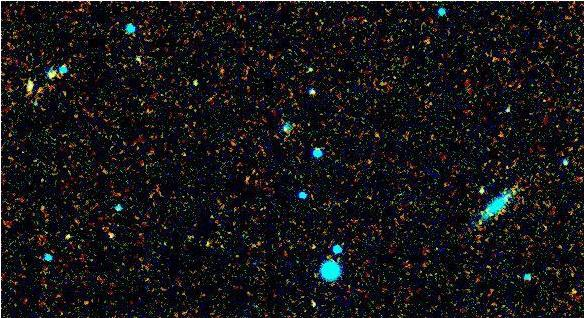star: (58, 221, 88, 251)
